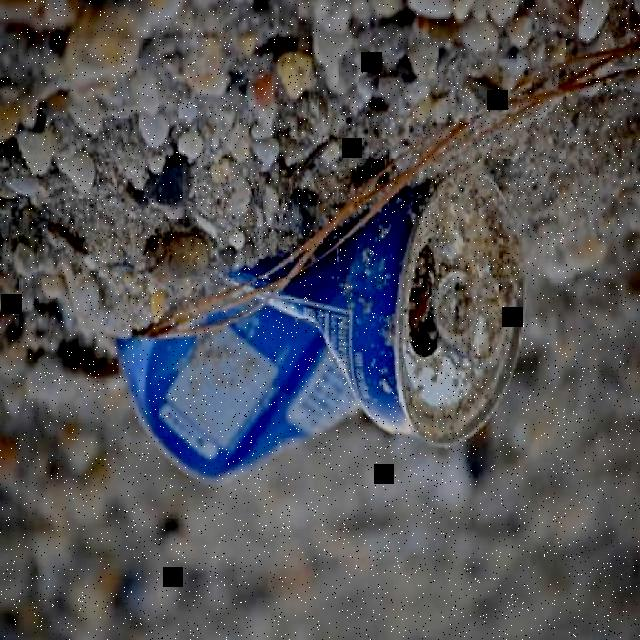can: (109, 151, 525, 491)
